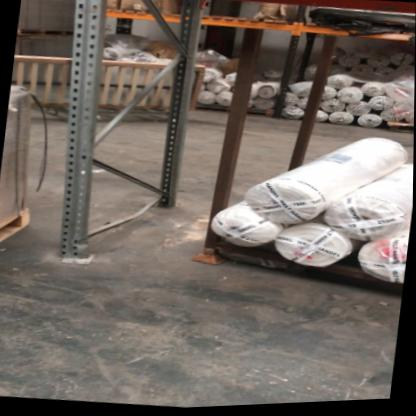vertical_damage: (49, 228, 108, 271)
